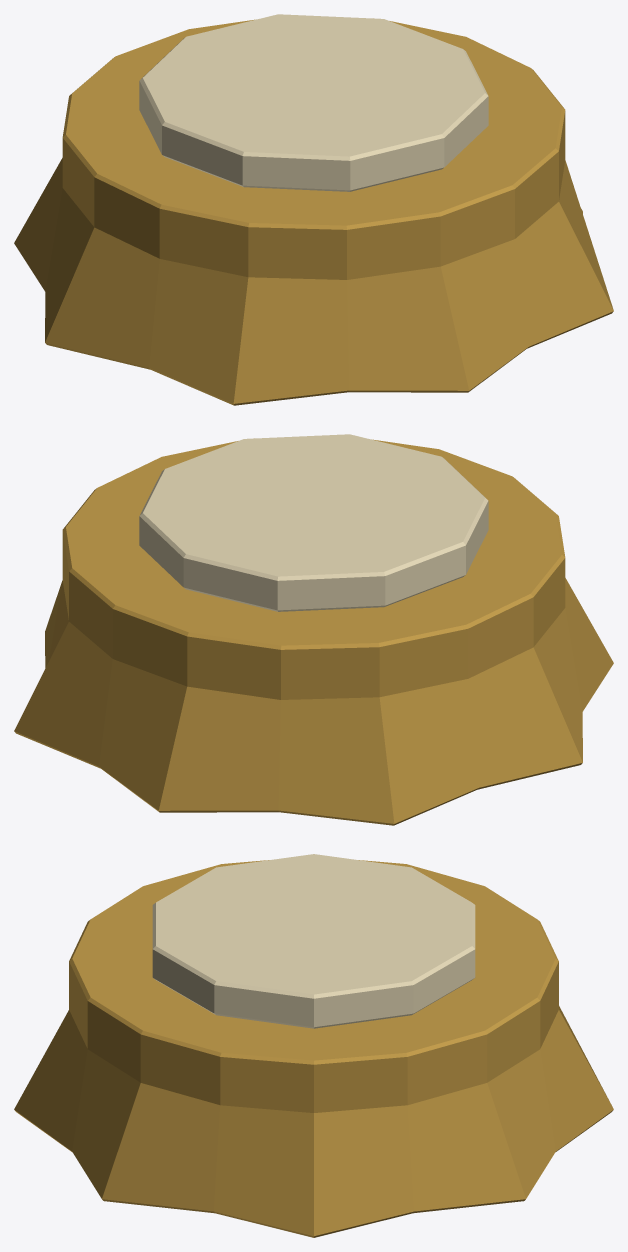
File: b16_discarded_crown_bottle_cap.glb
3 renders of one model, top to bottom at view 1: azimuth 30°, elevation 25°; view 2: azimuth 150°, elevation 25°; view 3: azimuth 270°, elevation 25°, orthographic. The views are drawn at different scales.
Visible parts, largest first — view 1: b16_discarded_crown_bottle_cap; view 2: b16_discarded_crown_bottle_cap; view 3: b16_discarded_crown_bottle_cap.
Boxes of the visible parts, x1,y1,x2,y2 form: b16_discarded_crown_bottle_cap: [14, 14, 613, 405]; b16_discarded_crown_bottle_cap: [14, 434, 613, 825]; b16_discarded_crown_bottle_cap: [14, 854, 613, 1237].
Bounding box in the file's own units: 0.0318 × 0.011 × 0.0318.
